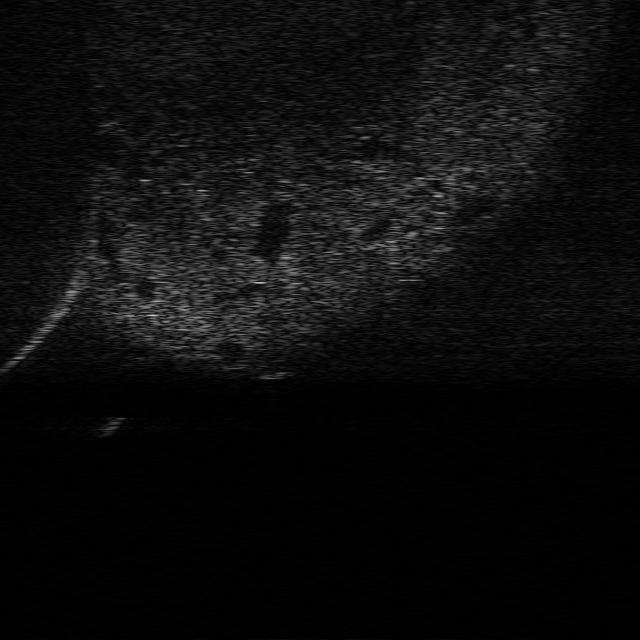cylinder: (95, 415, 121, 439)
